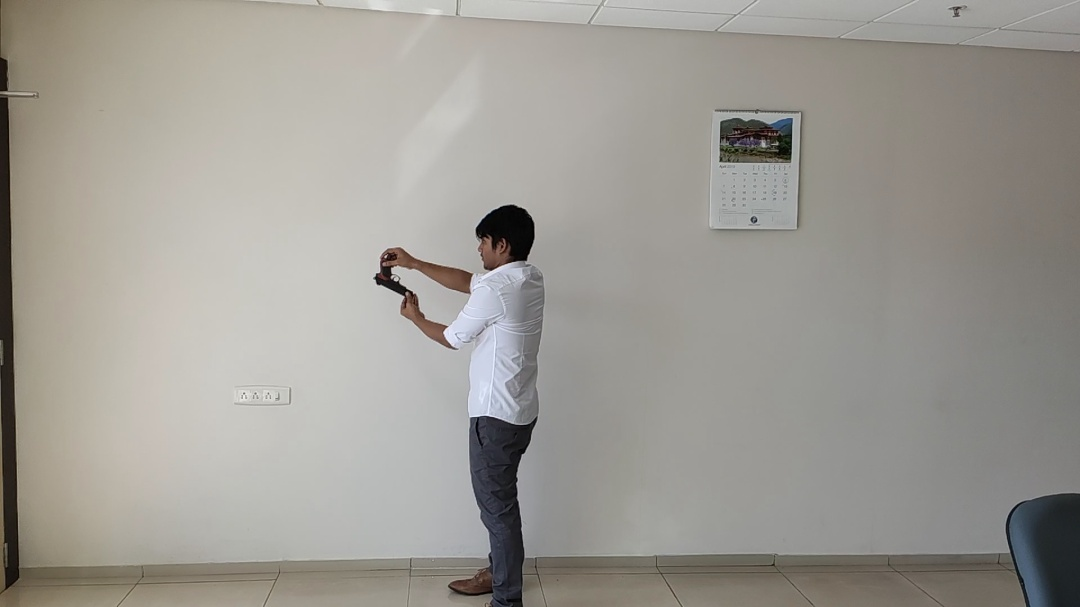gun: (367, 247, 786, 531)
